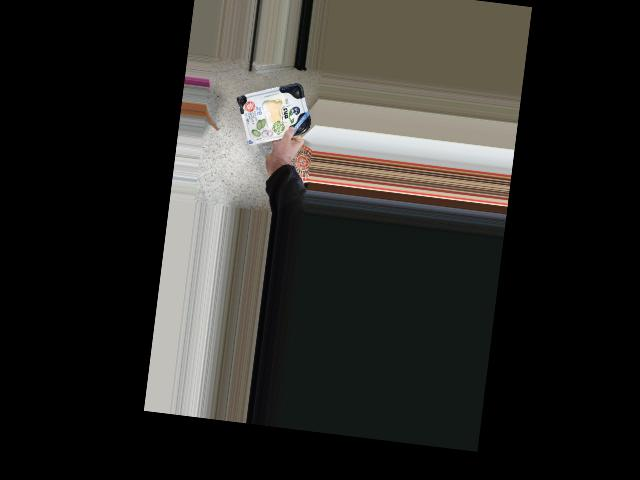cheese: (239, 85, 307, 143)
